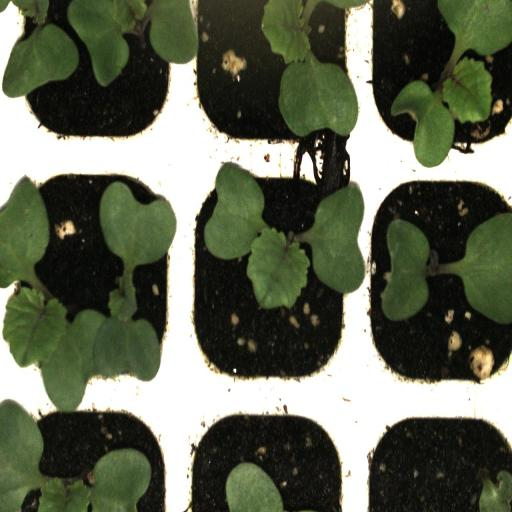Folha: (444, 211, 512, 324), (381, 218, 430, 321), (225, 461, 284, 512)
Germinacao: (0, 159, 183, 396), (184, 160, 360, 394), (360, 162, 512, 394), (1, 1, 184, 158), (184, 0, 360, 162), (361, 0, 512, 164)
